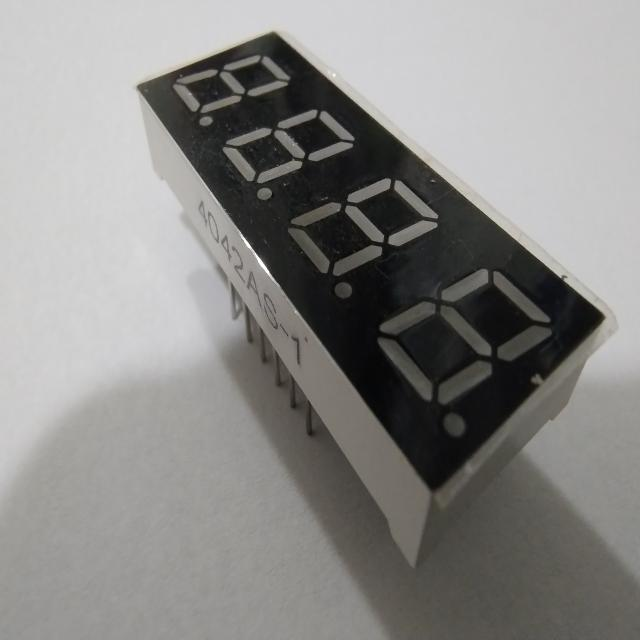7_segments_4_digits: (120, 18, 612, 580)
